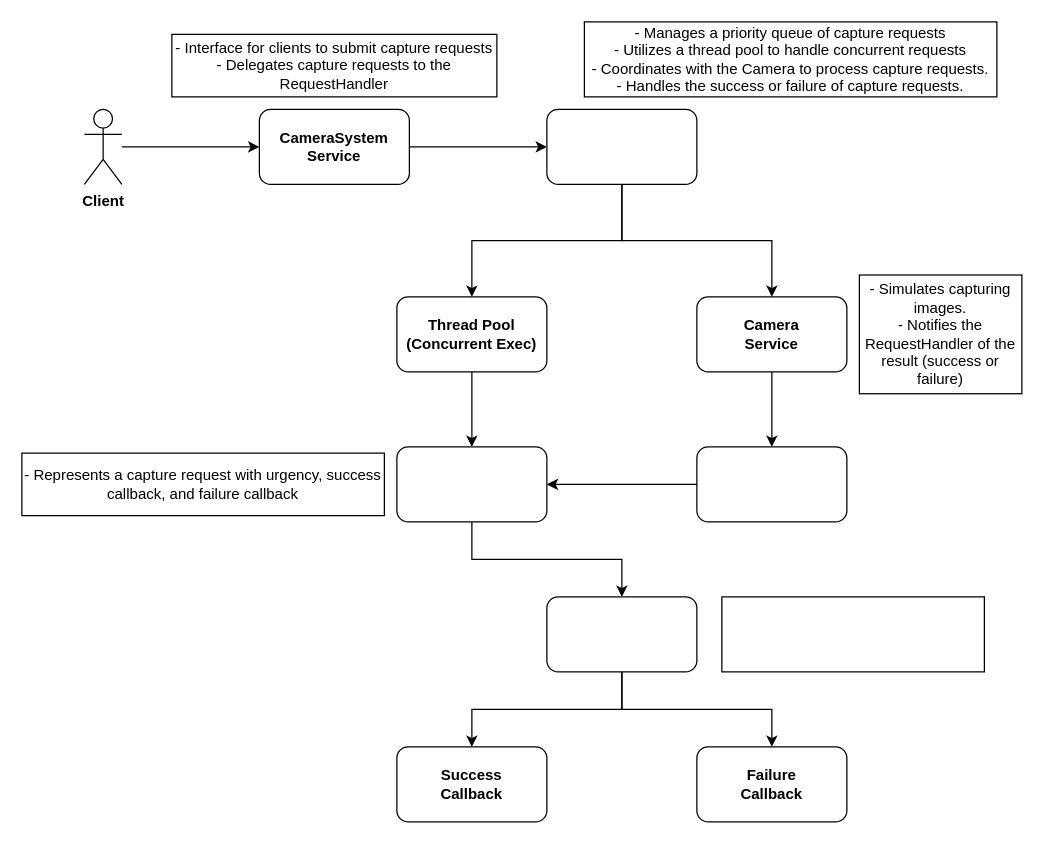
Image size: 1044x844. Some labels were removed from this diagram. Each missing label, with the centre of its shape:
- Executes success or failure callbacks based on the capture result: point (852, 634)
CallbackHandler Service: point (621, 634)
CaptureResult: point (471, 484)
Capturing Image: point (771, 484)
RequestHandler Service: point (621, 146)
